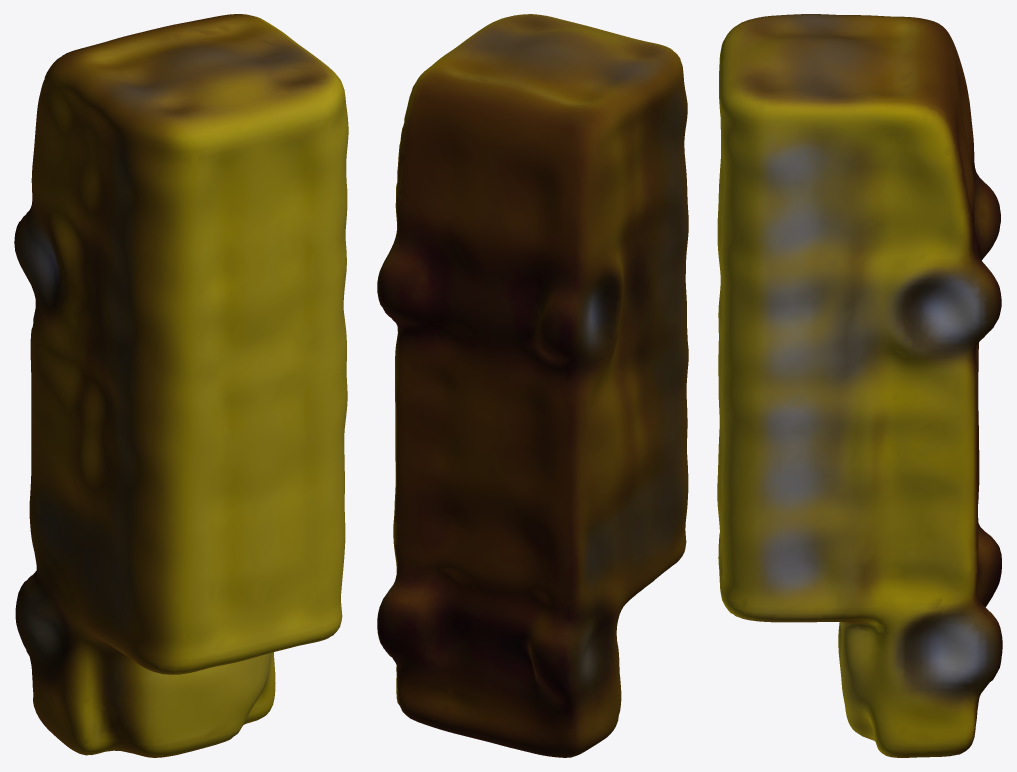
File: school_bus1.glb
3 views of the same model, side by side, from view 1: azimuth 30°, elevation 25°; view 2: azimuth 150°, elevation 25°; view 3: azimuth 270°, elevation 25° (orthographic). The views are drawn at different scales.
Bounding box in the file's own units: 0.3268 × 0.9998 × 0.3818.
